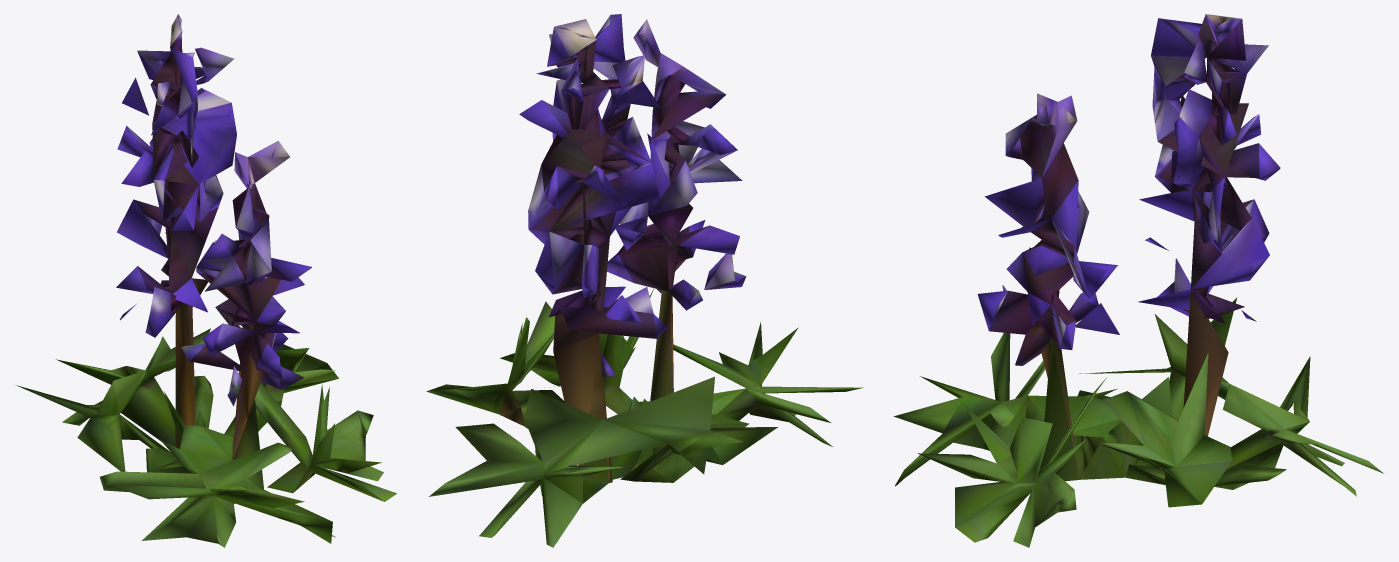
Rendered from flowers-purple.glb.
The picture shows the model from 3 angles, left to right: view 1: azimuth 30°, elevation 25°; view 2: azimuth 150°, elevation 25°; view 3: azimuth 270°, elevation 25°; orthographic projection. The views are drawn at different scales.
Visible parts, largest first — view 1: tripo_node_535514b5-5afe-4a0f-965b-f42a3118b8d1; view 2: tripo_node_535514b5-5afe-4a0f-965b-f42a3118b8d1; view 3: tripo_node_535514b5-5afe-4a0f-965b-f42a3118b8d1.
Part boxes in pixels (box(x1,y1,x2,y2)): tripo_node_535514b5-5afe-4a0f-965b-f42a3118b8d1: box(16, 14, 396, 547); tripo_node_535514b5-5afe-4a0f-965b-f42a3118b8d1: box(426, 14, 863, 547); tripo_node_535514b5-5afe-4a0f-965b-f42a3118b8d1: box(893, 14, 1383, 547).
Size of the model in its own units: 0.6646 by 0.874 by 0.8285.
1 material, 1 textured.
